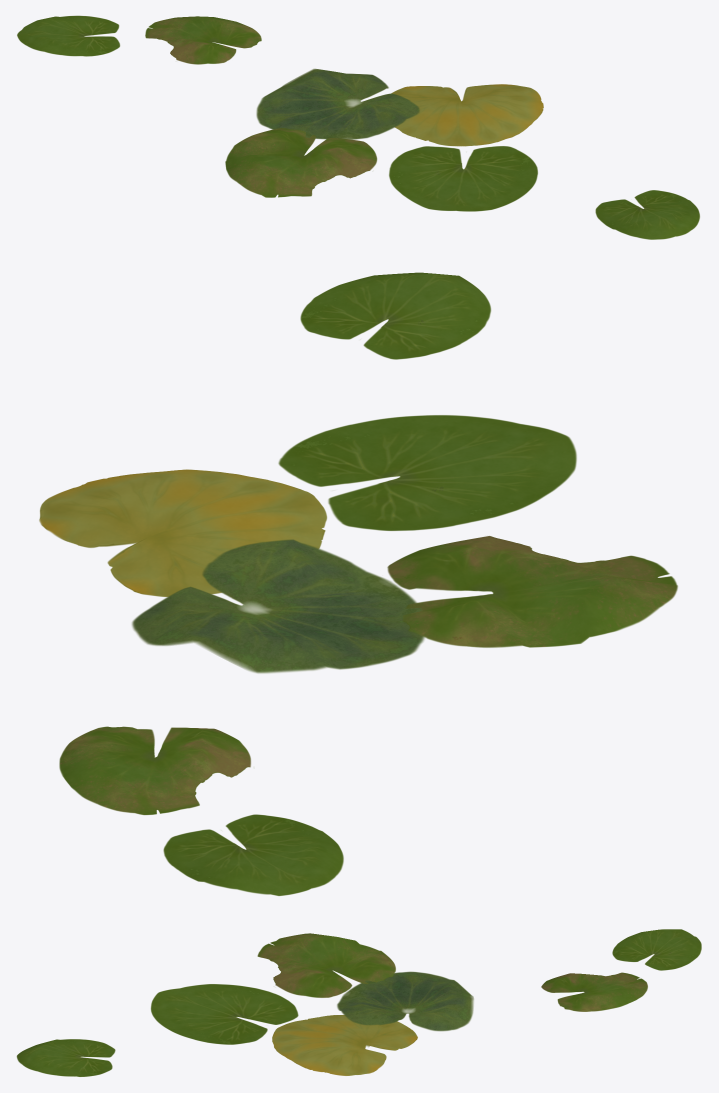
The model's file is SM_Plant_WaterLily_04.gltf.
The picture shows the model from 3 angles, top to bottom: view 1: azimuth 30°, elevation 25°; view 2: azimuth 150°, elevation 25°; view 3: azimuth 270°, elevation 25°; orthographic projection. The views are drawn at different scales.
Parts seen in each view (by area): view 1: SM_Plant_WaterLily_04; view 2: SM_Plant_WaterLily_04; view 3: SM_Plant_WaterLily_04.
Part boxes in pixels (left/top/right/bottom): SM_Plant_WaterLily_04: left=17, top=15, right=699, bottom=239; SM_Plant_WaterLily_04: left=39, top=272, right=677, bottom=895; SM_Plant_WaterLily_04: left=16, top=929, right=701, bottom=1076.
Bounding box in the file's own units: 1.22 × 0.0523 × 2.34.
1 material, 1 textured.
